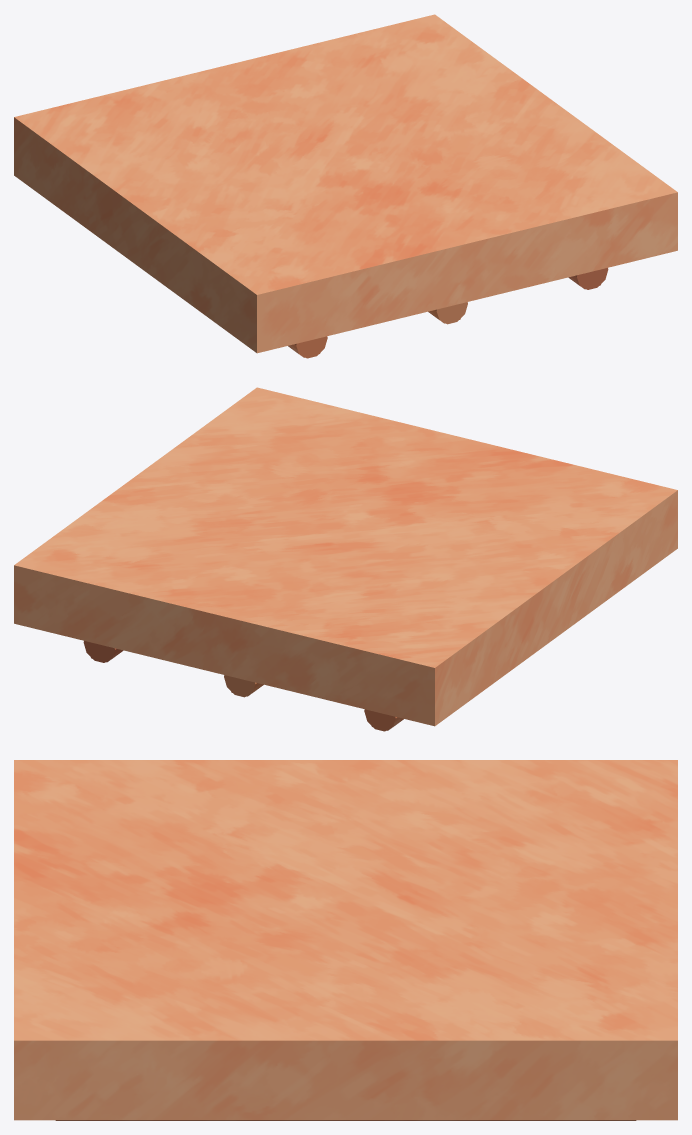
File: roof.bundle.fbx
The picture shows the model from 3 angles, top to bottom: view 1: azimuth 30°, elevation 25°; view 2: azimuth 150°, elevation 25°; view 3: azimuth 270°, elevation 25°; orthographic projection. The views are drawn at different scales.
Visible parts, largest first — view 1: roof, roof_s00, roof_s02, roof_s05, roof_s03, roof_s06, roof_s04, roof_s01; view 2: roof, roof_s05, roof_s00, roof_s06, roof_s03, roof_s01, roof_s04, roof_s02, roof_low; view 3: roof, roof_s04, roof_s00, roof_s06, roof_s02, roof_s05, roof_s03, roof_s01, roof_low.
Boxes of the visible parts, box(x1,y1,x2,y2) form: roof: box(14, 14, 677, 358); roof_s00: box(219, 188, 576, 353); roof_s02: box(306, 92, 523, 191); roof_s05: box(122, 123, 347, 324); roof_s03: box(302, 14, 533, 114); roof_s06: box(14, 92, 232, 243); roof_s04: box(515, 87, 677, 284); roof_s01: box(118, 47, 322, 123); roof: box(14, 387, 677, 731); roof_s05: box(302, 510, 641, 650); roof_s00: box(338, 412, 677, 575); roof_s06: box(337, 585, 542, 725); roof_s03: box(14, 493, 240, 655); roof_s01: box(148, 556, 337, 690); roof_s04: box(115, 388, 356, 492); roof_s02: box(188, 453, 412, 554); roof_low: box(84, 641, 394, 730); roof: box(14, 760, 677, 1120); roof_s04: box(14, 964, 405, 1120); roof_s00: box(14, 760, 249, 966); roof_s06: box(389, 760, 677, 865); roof_s02: box(127, 878, 473, 1003); roof_s05: box(113, 760, 510, 901); roof_s03: box(397, 916, 677, 1120); roof_s01: box(462, 829, 677, 950); roof_low: box(55, 1120, 636, 1120).
Size of the model in its own units: 8 by 1.65 by 8.
1 material, 1 textured.
